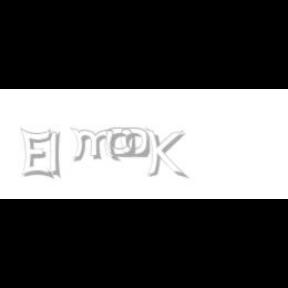E: (20, 128, 53, 180)
K: (145, 128, 185, 180)
l: (48, 128, 64, 180)
m: (69, 128, 121, 162)
o: (106, 128, 136, 158), (120, 128, 150, 158)
